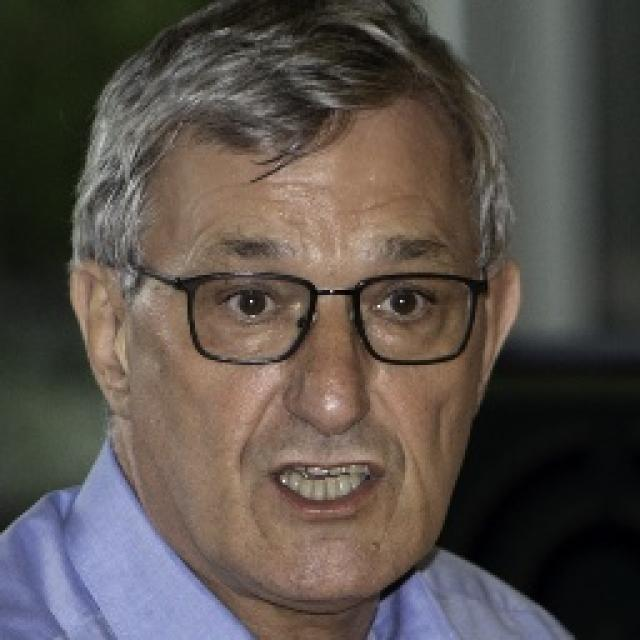earlobe: (67, 252, 138, 422), (470, 255, 520, 417)
